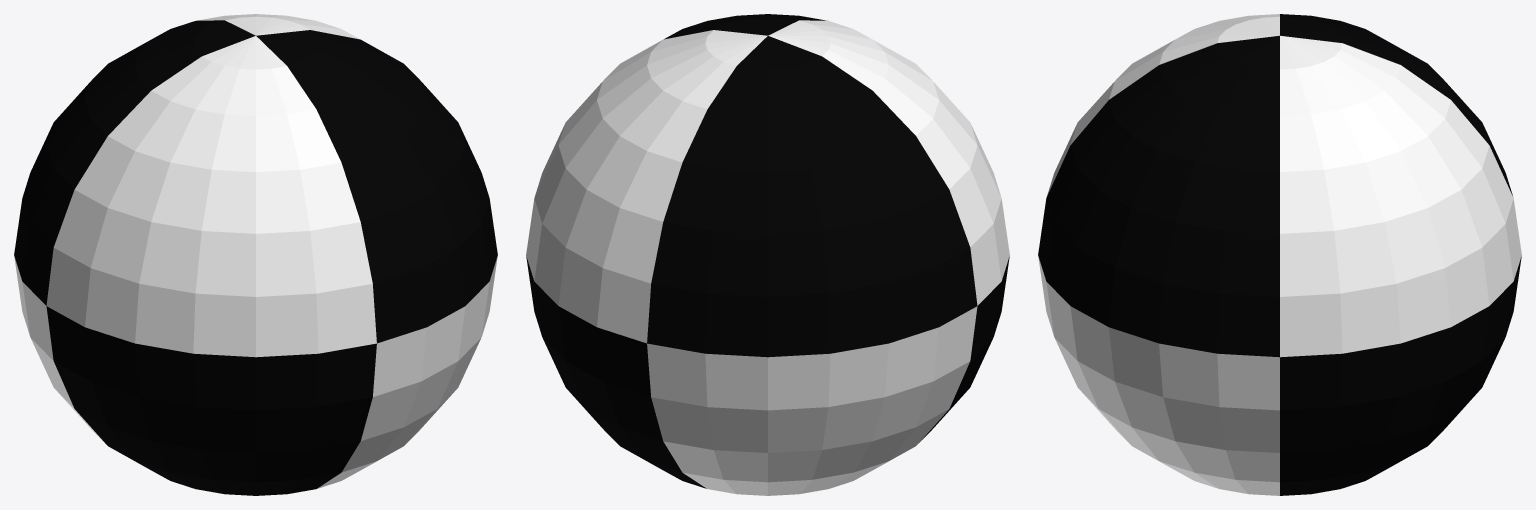
The model's file is ball2.obj.
3 views of the same model, side by side, from view 1: azimuth 30°, elevation 25°; view 2: azimuth 150°, elevation 25°; view 3: azimuth 270°, elevation 25° (orthographic).
Visible parts, largest first — view 1: entity0_brush2, entity0_brush0, entity0_brush3, entity0_brush6, entity0_brush1, entity0_brush4, entity0_brush7; view 2: entity0_brush6, entity0_brush4, entity0_brush7, entity0_brush2, entity0_brush5, entity0_brush0, entity0_brush3; view 3: entity0_brush3, entity0_brush7, entity0_brush1, entity0_brush5, entity0_brush2, entity0_brush6.
Boxes of the visible parts, box(x1,y1,x2,y2) form: entity0_brush2: box(46, 36, 376, 357); entity0_brush0: box(46, 306, 376, 495); entity0_brush3: box(256, 30, 497, 343); entity0_brush6: box(14, 20, 255, 305); entity0_brush1: box(317, 256, 497, 488); entity0_brush4: box(14, 256, 104, 442); entity0_brush7: box(198, 14, 359, 39); entity0_brush6: box(647, 36, 977, 357); entity0_brush4: box(647, 306, 977, 495); entity0_brush7: box(526, 30, 767, 343); entity0_brush2: box(768, 20, 1009, 305); entity0_brush5: box(526, 256, 706, 488); entity0_brush0: box(919, 256, 1009, 442); entity0_brush3: box(664, 14, 825, 39); entity0_brush3: box(1038, 35, 1279, 357); entity0_brush7: box(1280, 35, 1521, 357); entity0_brush1: box(1038, 256, 1279, 495); entity0_brush5: box(1280, 256, 1521, 495); entity0_brush2: box(1047, 14, 1279, 195); entity0_brush6: box(1280, 14, 1512, 195).
Size of the model in its own units: 32 by 32 by 32.
Materials: 2 (2 with a texture image).
